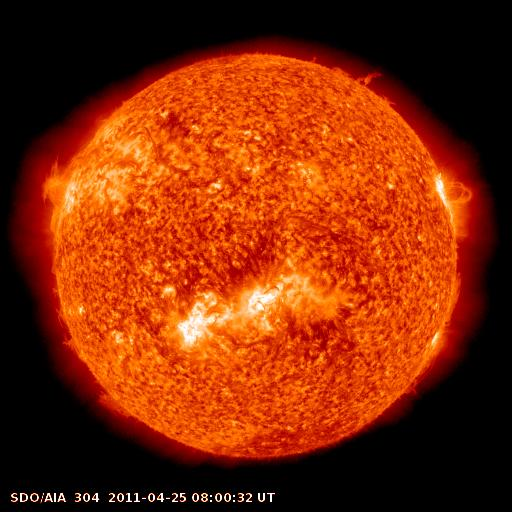prominence: (34, 147, 85, 235), (329, 59, 401, 111), (46, 284, 92, 364), (438, 269, 467, 329), (91, 386, 138, 422)
